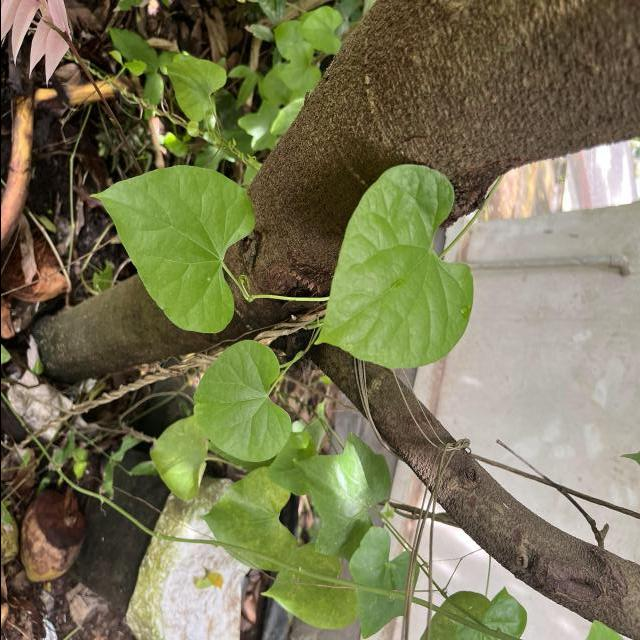Tinospora cordifolia: (311, 162, 476, 372), (86, 163, 257, 336), (190, 338, 292, 464)
